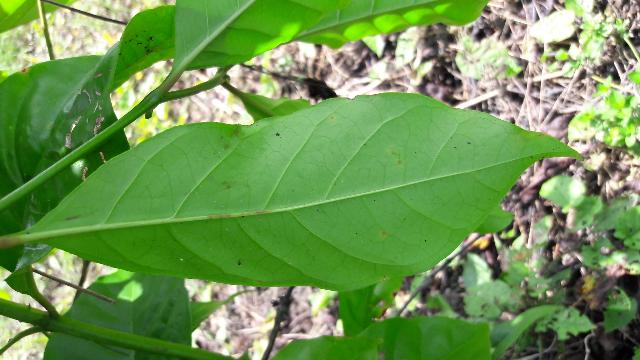healthy: (8, 92, 584, 290)
